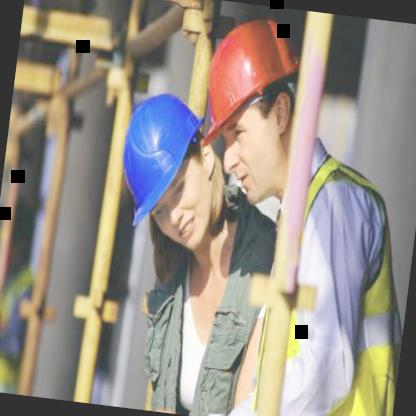helmet: (172, 0, 330, 226), (102, 58, 224, 260)
